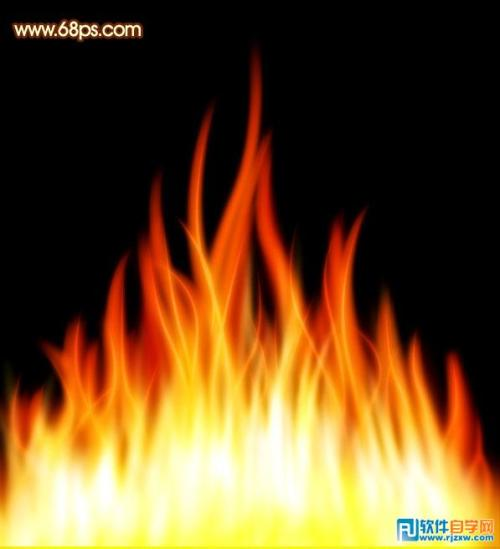fire: (7, 288, 500, 512)
